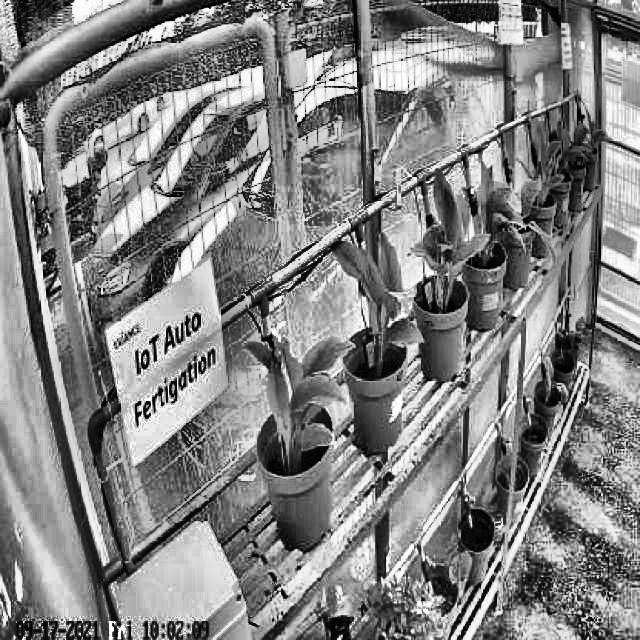plants: (247, 336, 353, 454), (328, 232, 426, 348), (412, 172, 474, 308), (472, 156, 526, 256), (536, 130, 562, 202)
